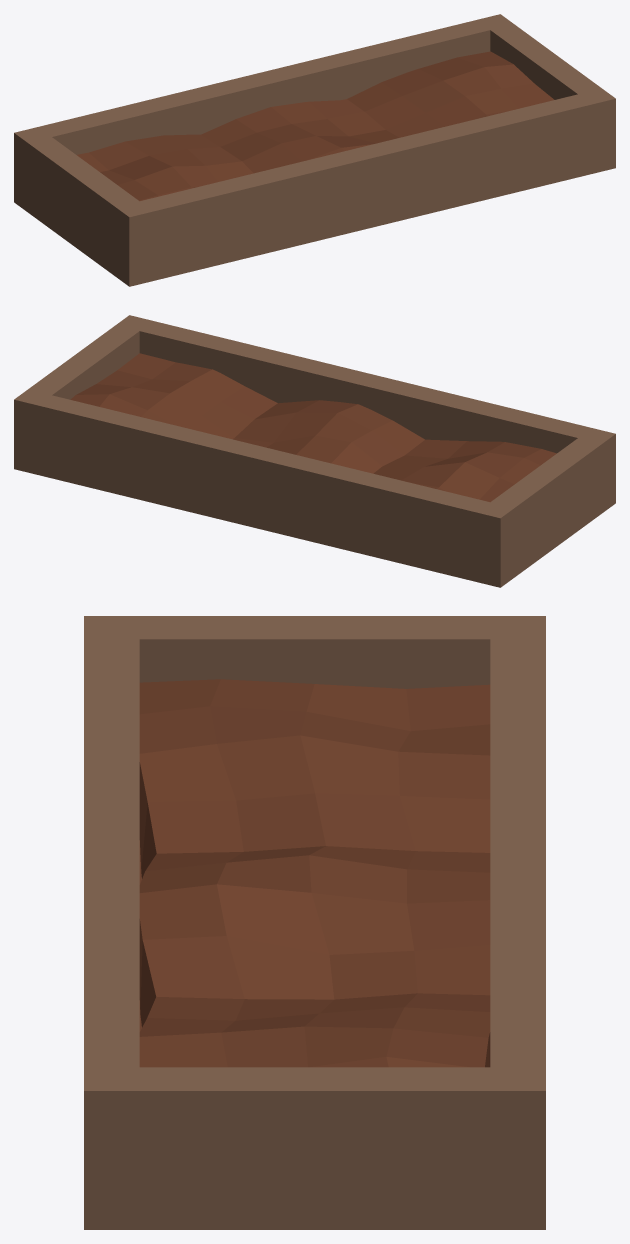
3 renders of one model, top to bottom at view 1: azimuth 30°, elevation 25°; view 2: azimuth 150°, elevation 25°; view 3: azimuth 270°, elevation 25°, orthographic. The views are drawn at different scales.
Visible parts, largest first — view 1: Cube, Cube.001; view 2: Cube, Cube.001; view 3: Cube, Cube.001.
Boxes of the visible parts, bbox=[...] form: Cube: bbox=[14, 14, 615, 286]; Cube.001: bbox=[77, 51, 554, 201]; Cube: bbox=[14, 315, 615, 587]; Cube.001: bbox=[70, 353, 556, 502]; Cube: bbox=[84, 616, 545, 1229]; Cube.001: bbox=[139, 679, 490, 1067].
Size of the model in its own units: 7.62 by 1.04 by 3.13.
